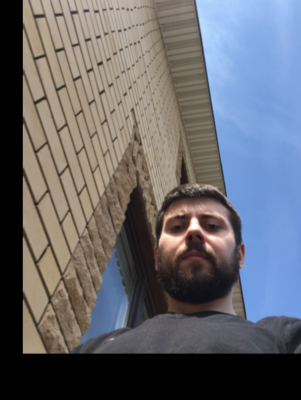without_mask: (158, 209, 233, 302)
